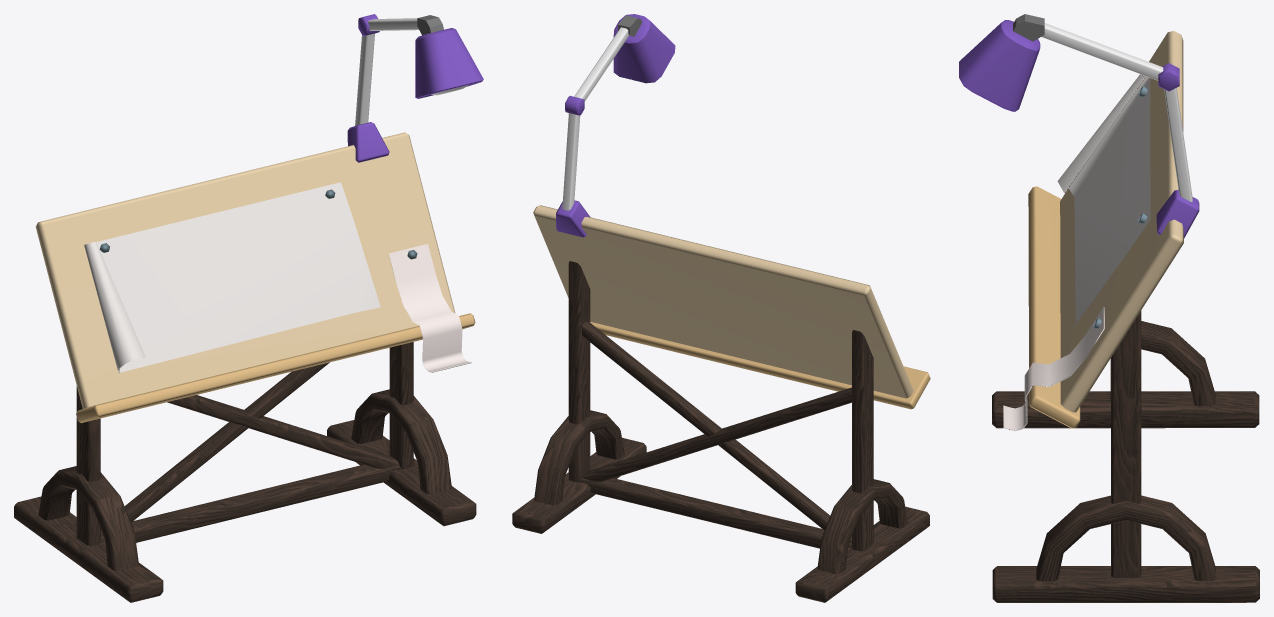
Rendered from entertainment_017.fbx.
3 renders of one model, left to right at view 1: azimuth 30°, elevation 25°; view 2: azimuth 150°, elevation 25°; view 3: azimuth 270°, elevation 25°, orthographic. The views are drawn at different scales.
Parts seen in each view (by area): view 1: entertainment_017; view 2: entertainment_017; view 3: entertainment_017.
Part boxes in pixels (x1,y1,x2,y2): entertainment_017: [14, 14, 483, 602]; entertainment_017: [512, 14, 930, 602]; entertainment_017: [959, 14, 1259, 602].
Size of the model in its own units: 149 by 89.55 by 187.
